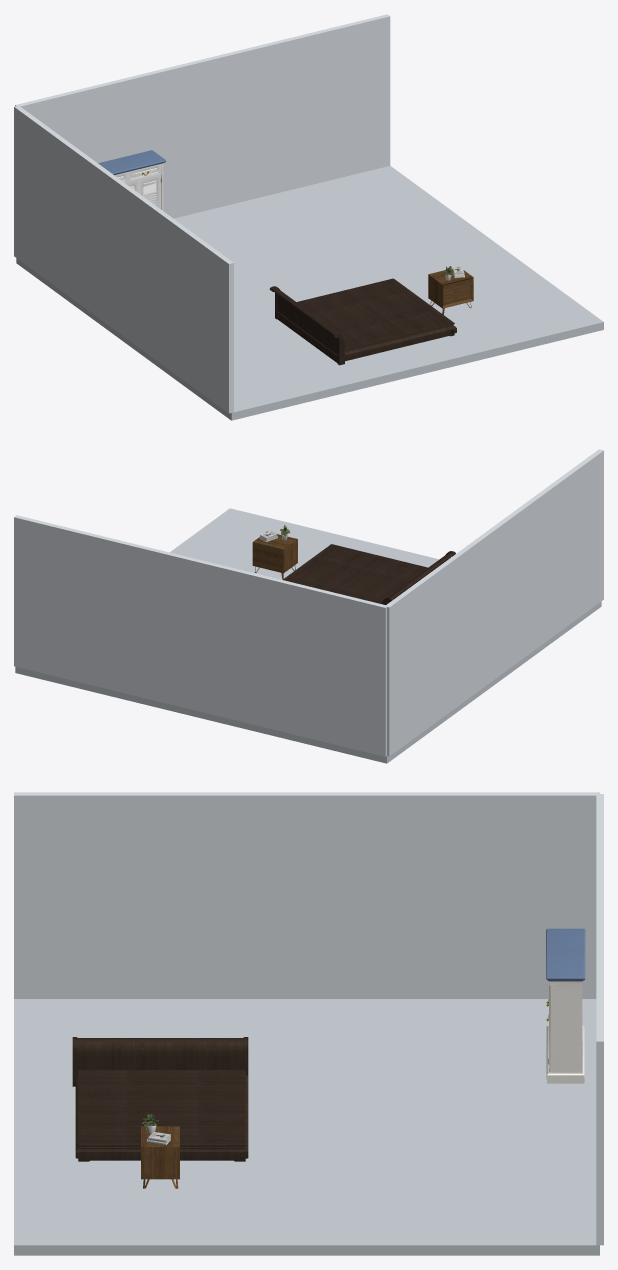
File: stage1.glb
3 renders of one model, top to bottom at view 1: azimuth 30°, elevation 25°; view 2: azimuth 150°, elevation 25°; view 3: azimuth 270°, elevation 25°, orthographic. The views are drawn at different scales.
Parts seen in each view (by area): view 1: Floor, wall_back, wall_left, raw_model, raw_model.002, raw_model.001; view 2: wall_back, wall_left, Floor, raw_model, raw_model.001; view 3: Floor, wall_left, raw_model, raw_model.002, wall_back, raw_model.001.
Boxes of the visible parts, box(x1,y1,x2,y2) form: Floor: box(16, 165, 603, 420); wall_back: box(15, 14, 390, 218); wall_left: box(14, 105, 233, 413); raw_model: box(269, 278, 456, 365); raw_model.002: box(98, 150, 166, 210); raw_model.001: box(428, 266, 473, 314); wall_back: box(14, 515, 387, 756); wall_left: box(386, 449, 603, 756); Floor: box(15, 508, 601, 763); raw_model: box(283, 544, 455, 604); raw_model.001: box(252, 525, 297, 579); Floor: box(14, 999, 599, 1255); wall_left: box(14, 792, 599, 998); raw_model: box(72, 1037, 248, 1161); raw_model.002: box(546, 928, 585, 1083); wall_back: box(596, 794, 603, 1245); raw_model.001: box(141, 1114, 179, 1188).
Size of the model in its own units: 6.04 by 2.42 by 6.04.
5 materials, 3 textured.
